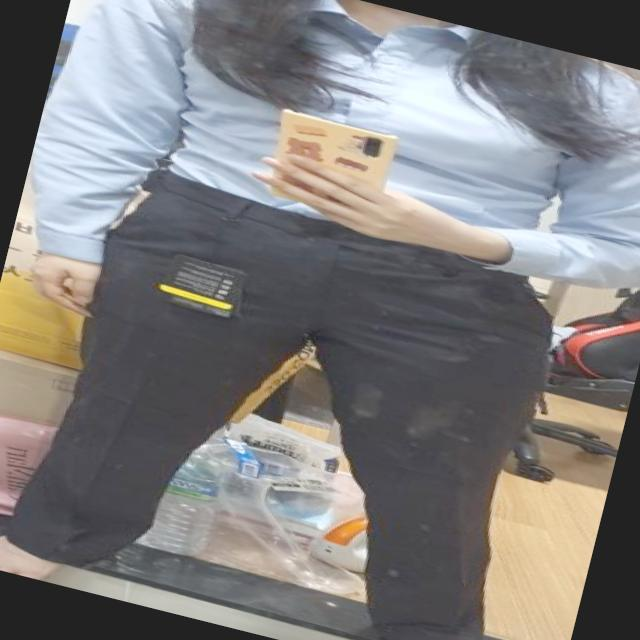shirt: (9, 0, 640, 398)
slacks: (0, 156, 575, 640)
